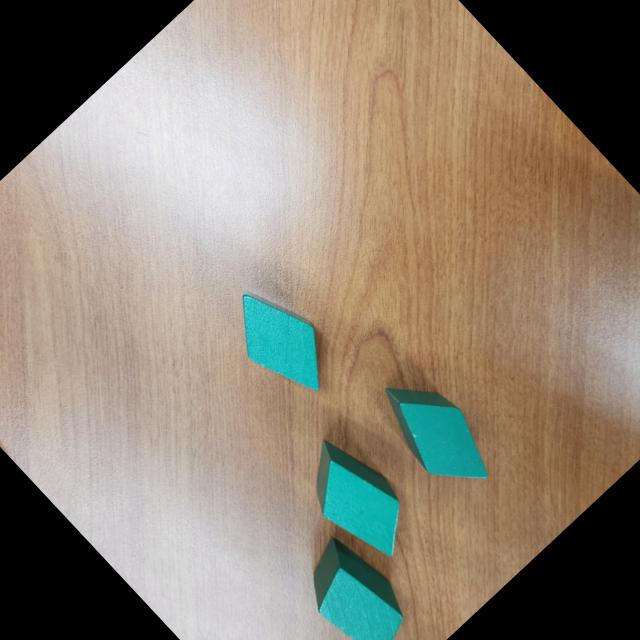green: (284, 424, 430, 572), (367, 360, 508, 504), (214, 274, 348, 409), (287, 527, 426, 640)
